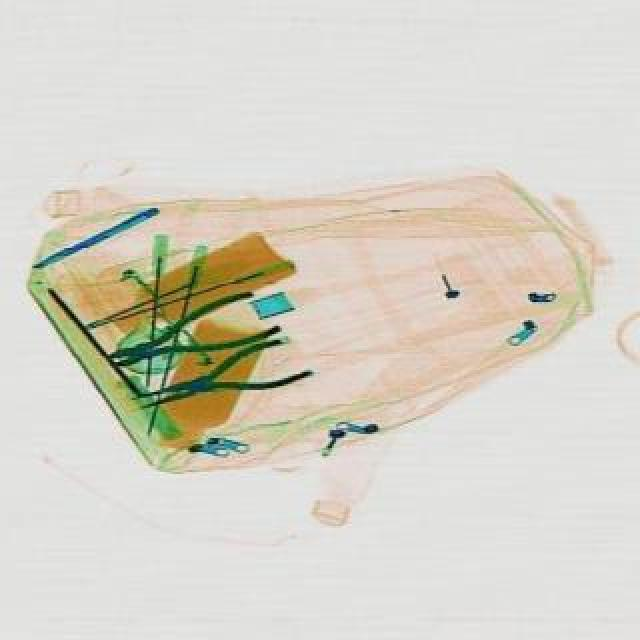wrench: (96, 282, 280, 382), (126, 330, 312, 426)
